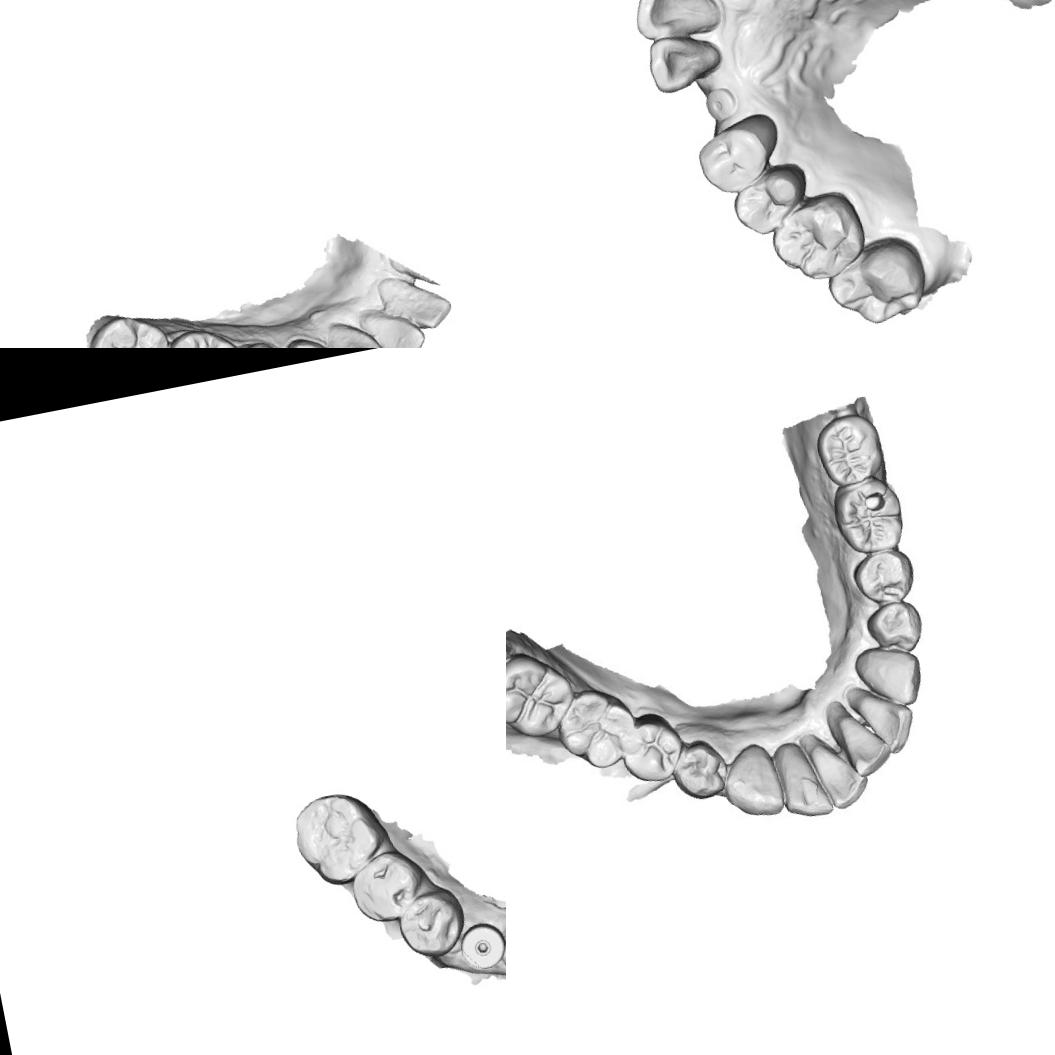canine: (717, 738, 785, 820), (855, 640, 923, 705), (325, 314, 387, 348)
implant: (455, 919, 506, 972), (700, 84, 740, 124)
incisor: (803, 728, 873, 812), (770, 732, 832, 825), (644, 28, 728, 96), (826, 694, 892, 780), (847, 678, 915, 756), (379, 271, 455, 338), (627, 0, 727, 43), (356, 299, 429, 348)
molar: (285, 783, 396, 891), (820, 232, 934, 332), (764, 189, 868, 291), (557, 686, 646, 774), (830, 474, 910, 557), (506, 648, 573, 739), (816, 412, 882, 482), (78, 304, 177, 348), (157, 321, 248, 348)
premolar: (688, 109, 789, 200), (344, 842, 434, 928), (725, 164, 810, 242), (392, 886, 468, 960), (616, 718, 688, 787), (866, 599, 927, 658), (854, 548, 913, 606), (669, 740, 725, 793), (281, 330, 341, 348)
